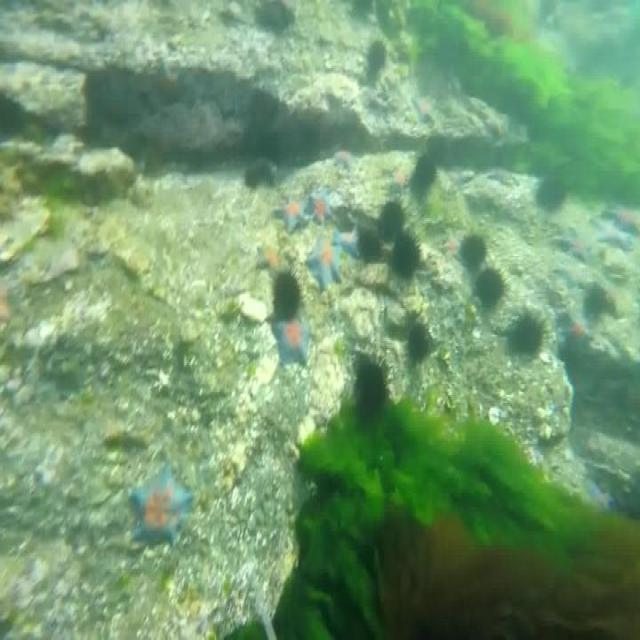echinus: (353, 352, 387, 422), (268, 270, 302, 321), (391, 230, 422, 276), (512, 308, 545, 351), (379, 193, 408, 240), (477, 261, 508, 303), (537, 175, 564, 212), (407, 321, 430, 362), (462, 229, 486, 266), (358, 225, 382, 262), (414, 154, 436, 186), (566, 292, 588, 316)
starfish: (132, 458, 190, 555), (272, 313, 311, 362), (564, 307, 594, 365), (310, 242, 345, 286), (276, 188, 308, 229), (598, 209, 630, 248), (588, 479, 614, 523), (306, 187, 332, 224), (567, 220, 592, 256), (257, 242, 283, 275), (331, 226, 361, 251), (489, 164, 515, 187), (334, 147, 358, 167)
